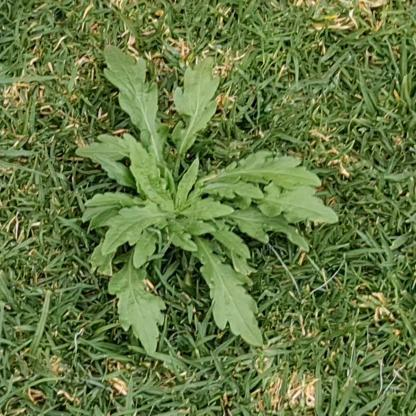Weeds: (75, 45, 339, 358)
